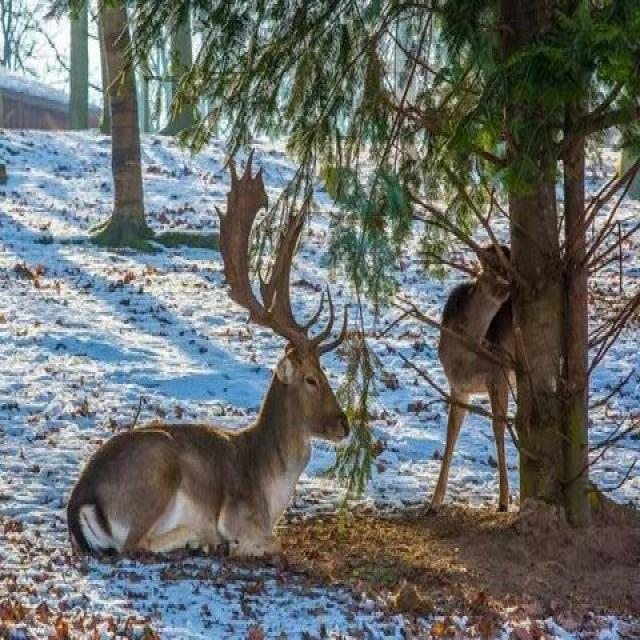deer: (63, 206, 407, 640), (403, 221, 584, 560)
